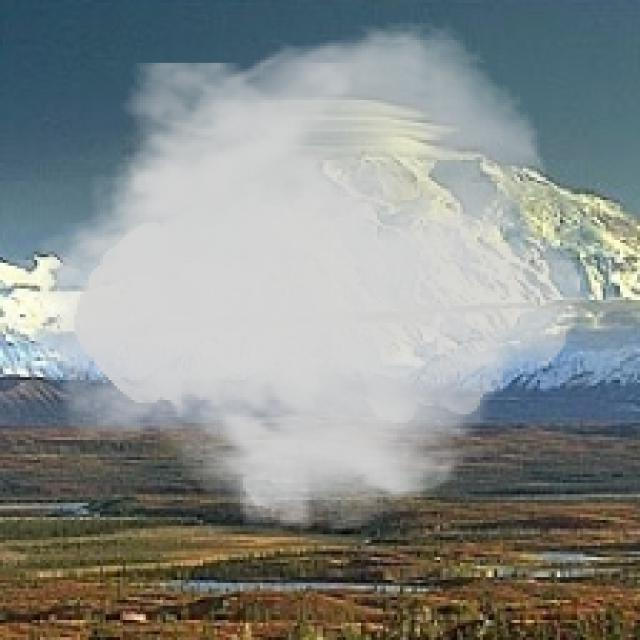Smoke: (17, 17, 583, 537)
